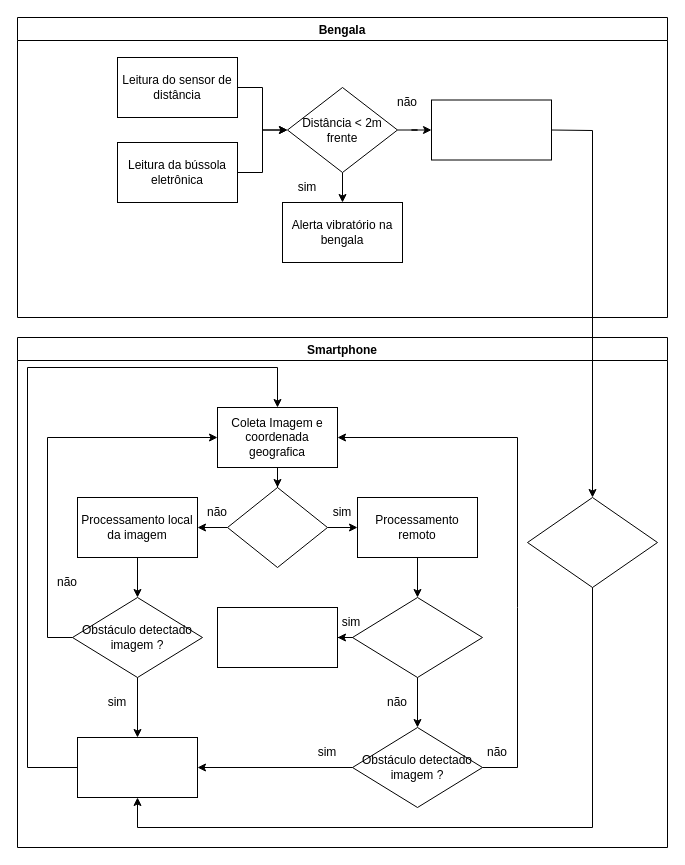
Some shapes in this 685 by 865 pixel diagram are drawn without their labels. Each missing label, with the centre of its shape:
"Alerta sonoro" goes at [277,637].
"Alerta vibratório no smartphone" goes at [137,767].
"Envia dados aos smartphone via bluetooth" goes at [491,129].
"Existe Detecção via bengala ?" goes at [592,542].
"obstáculo pré cadastrado <= 20m" goes at [417,637].
"tem conexão?" goes at [277,527].
